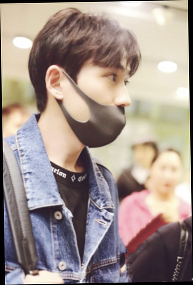mask_weared_incorrect: (61, 69, 132, 148)
